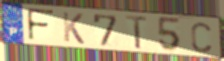5: (156, 15, 182, 54)
7: (92, 13, 119, 47)
C: (190, 21, 213, 54)
F: (26, 7, 56, 43)
K: (61, 11, 86, 46)
T: (125, 14, 149, 51)
